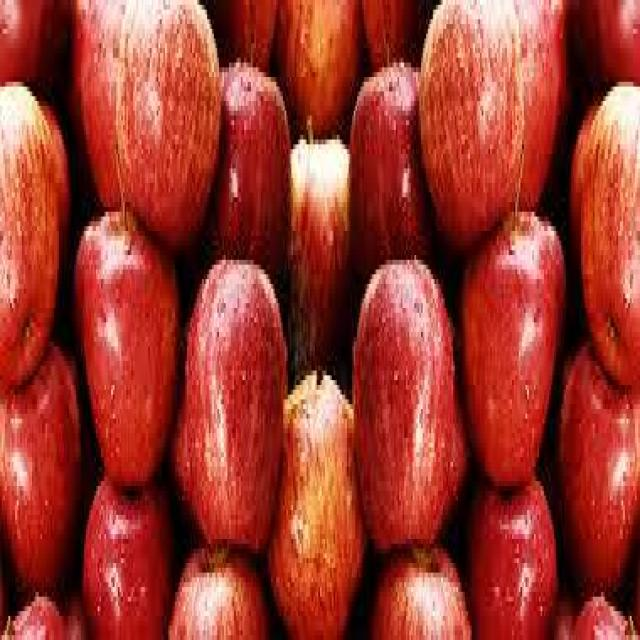apple: (259, 347, 374, 630), (71, 216, 175, 476), (184, 255, 276, 529), (354, 264, 463, 490), (463, 222, 561, 472), (115, 4, 217, 240), (206, 58, 303, 294), (546, 327, 630, 592), (418, 5, 529, 202), (284, 111, 366, 356), (453, 448, 558, 626), (348, 58, 434, 269), (578, 72, 638, 371), (0, 82, 61, 366), (84, 452, 160, 636)
